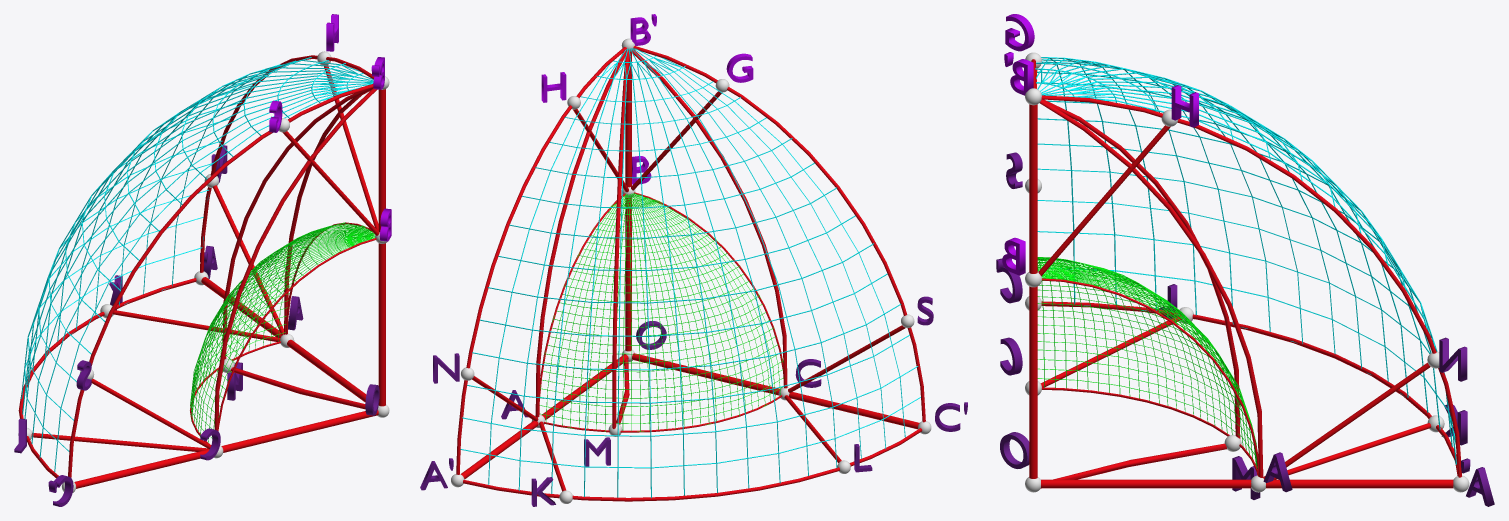
The picture shows the model from 3 angles, left to right: view 1: azimuth 30°, elevation 25°; view 2: azimuth 150°, elevation 25°; view 3: azimuth 270°, elevation 25°; orthographic projection. The views are drawn at different scales.
Parts seen in each view (by area): view 1: Sphere, Sphere.006, Cylinder.001, Cylinder.006, Torus, Torus.004, Cylinder.003, Torus.009, Torus.001, Torus.003, Torus.002, Cylinder.004 (+8 smaller); view 2: Sphere, Sphere.006, Cylinder.006, Torus, Torus.001, Torus.003, Cylinder.001, Torus.002, Torus.009, Torus.004, Cylinder.003, Cylinder.007 (+1 smaller); view 3: Sphere, Sphere.006, Cylinder.003, Cylinder.001, Torus.001, Torus.002, Torus.003, Torus.009, Torus.005, Cylinder.009, Cylinder.005, Cylinder.002 (+13 smaller).
Part boxes in pixels (<box>): Sphere: <box>21,57,373,471</box>; Sphere.006: <box>190,222,375,442</box>; Cylinder.001: <box>378,89,385,406</box>; Cylinder.006: <box>74,410,378,488</box>; Torus: <box>68,84,373,477</box>; Torus.004: <box>214,88,377,430</box>; Cylinder.003: <box>201,277,366,402</box>; Torus.009: <box>222,87,373,358</box>; Torus.001: <box>200,55,374,272</box>; Torus.003: <box>18,278,196,478</box>; Torus.002: <box>284,90,370,334</box>; Cylinder.004: <box>31,433,208,451</box>; Sphere: <box>460,48,920,498</box>; Sphere.006: <box>539,193,783,431</box>; Cylinder.006: <box>632,353,919,429</box>; Torus: <box>633,46,925,422</box>; Torus.001: <box>456,47,626,474</box>; Torus.003: <box>463,428,922,501</box>; Cylinder.001: <box>625,52,631,351</box>; Torus.002: <box>535,50,626,417</box>; Torus.009: <box>612,50,629,428</box>; Torus.004: <box>631,49,787,388</box>; Cylinder.003: <box>461,354,628,479</box>; Cylinder.007: <box>788,325,905,392</box>; Sphere: <box>1035,57,1456,464</box>; Sphere.006: <box>1037,257,1257,468</box>; Cylinder.003: <box>1041,479,1453,488</box>; Cylinder.001: <box>1029,104,1037,478</box>; Torus.001: <box>1041,95,1461,477</box>; Torus.002: <box>1040,99,1263,477</box>; Torus.003: <box>1041,301,1458,475</box>; Torus.009: <box>1042,99,1240,438</box>; Torus.005: <box>1041,443,1226,488</box>; Cylinder.009: <box>1038,125,1170,276</box>; Cylinder.005: <box>1263,362,1430,478</box>; Cylinder.002: <box>1274,423,1431,479</box>.
Size of the model in its own units: 1.19 by 1.2 by 1.17.
